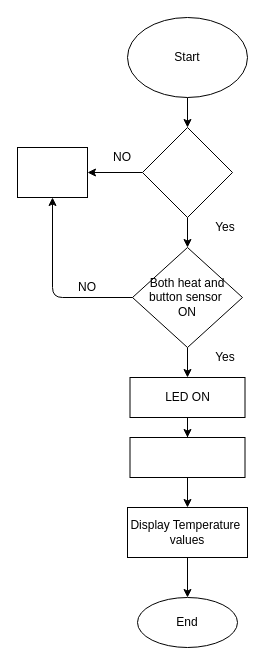
The diagram is 265 pixels wide and 665 high, and some of its shapes have lost their labels. The shapes that lost their labels are listed below. From the top down, each one's box as (x1, y1, x2, y2) in pixels, then its label:
(16, 146, 88, 198): LED OFF
(142, 126, 232, 218): Person is Seated
(129, 436, 245, 478): Read ADC values
